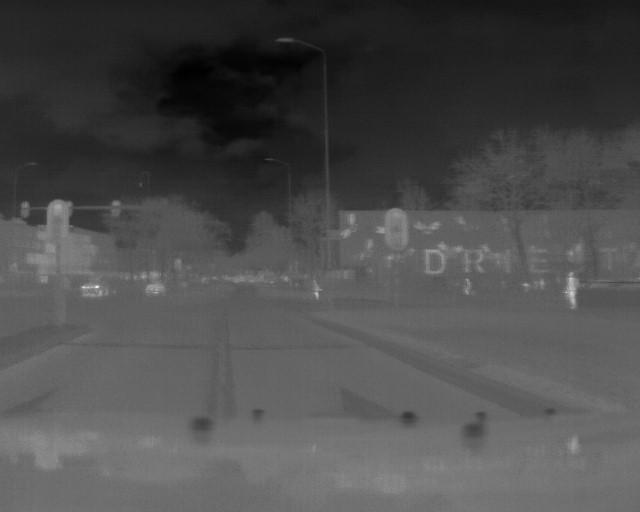car: (78, 276, 113, 301)
person: (563, 271, 582, 311)
